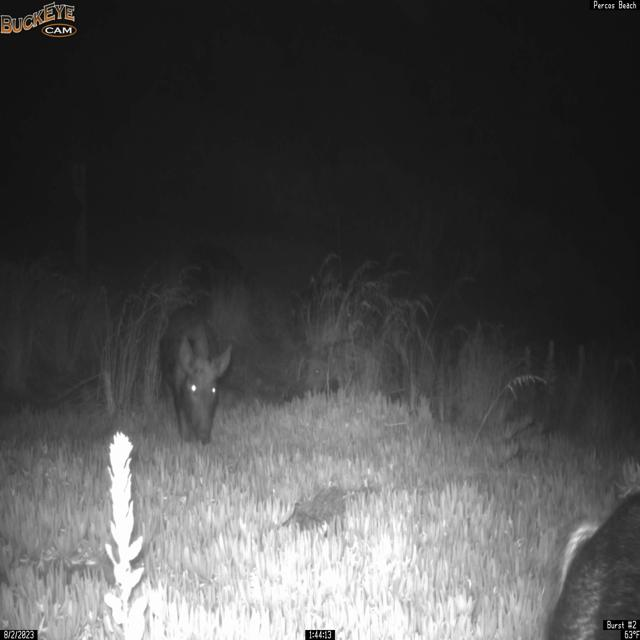pig: (158, 303, 233, 445)
